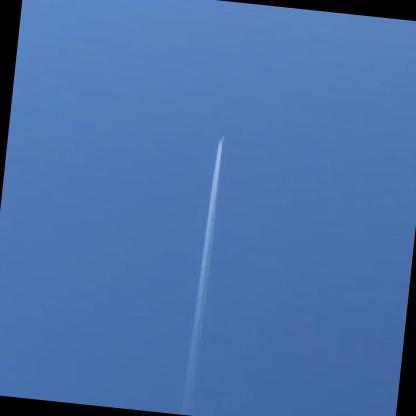plane: (212, 131, 227, 142)
